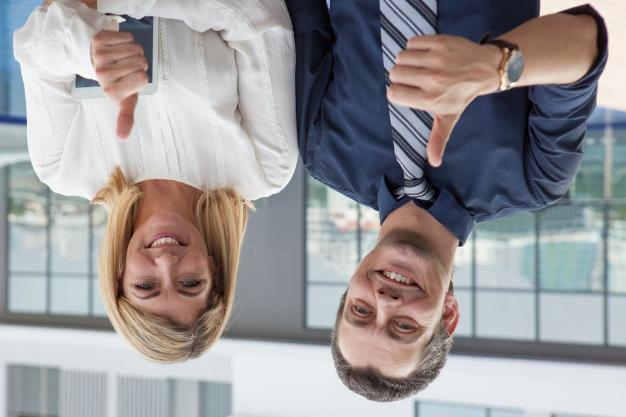thumbsdown: (386, 34, 458, 167), (92, 30, 149, 140)
